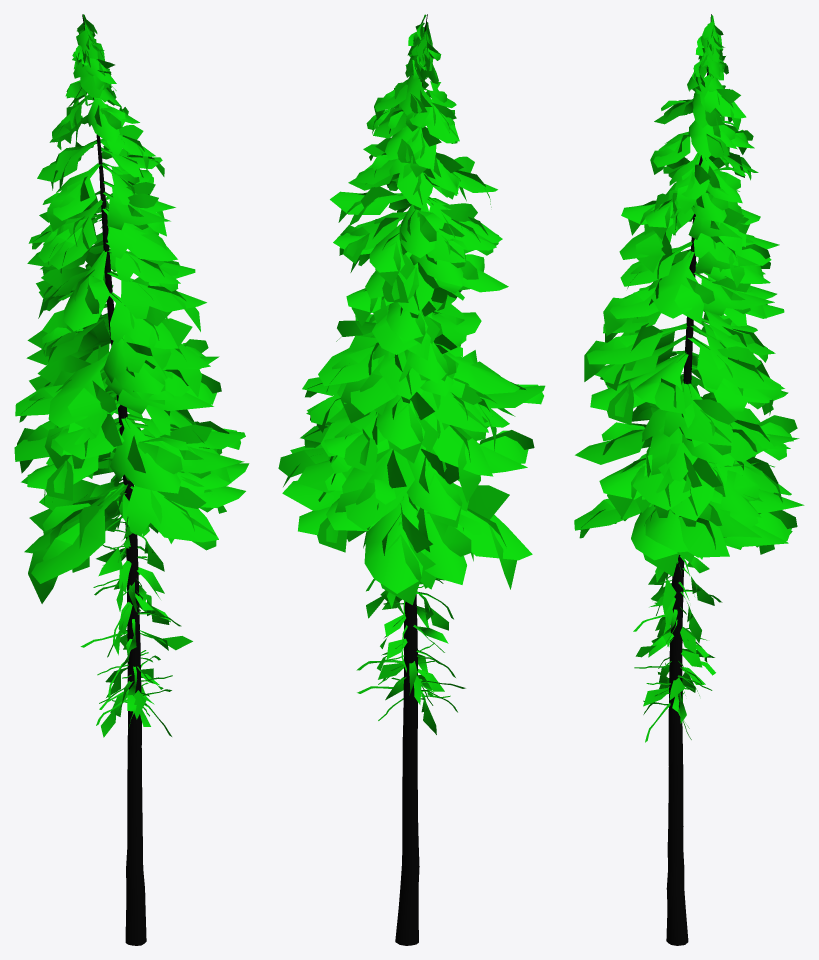
Rendered from Pine_Tree_1.fbx.
3 renders of one model, left to right at view 1: azimuth 30°, elevation 25°; view 2: azimuth 150°, elevation 25°; view 3: azimuth 270°, elevation 25°, orthographic. The views are drawn at different scales.
Parts seen in each view (by area): view 1: pine_005_01_LOD1; view 2: pine_005_01_LOD1; view 3: pine_005_01_LOD1.
Part boxes in pixels (box(x1,y1,x2,y2)): pine_005_01_LOD1: box(14, 14, 249, 945); pine_005_01_LOD1: box(278, 14, 545, 945); pine_005_01_LOD1: box(574, 14, 804, 945).
Size of the model in its own units: 537 by 2087 by 479.
